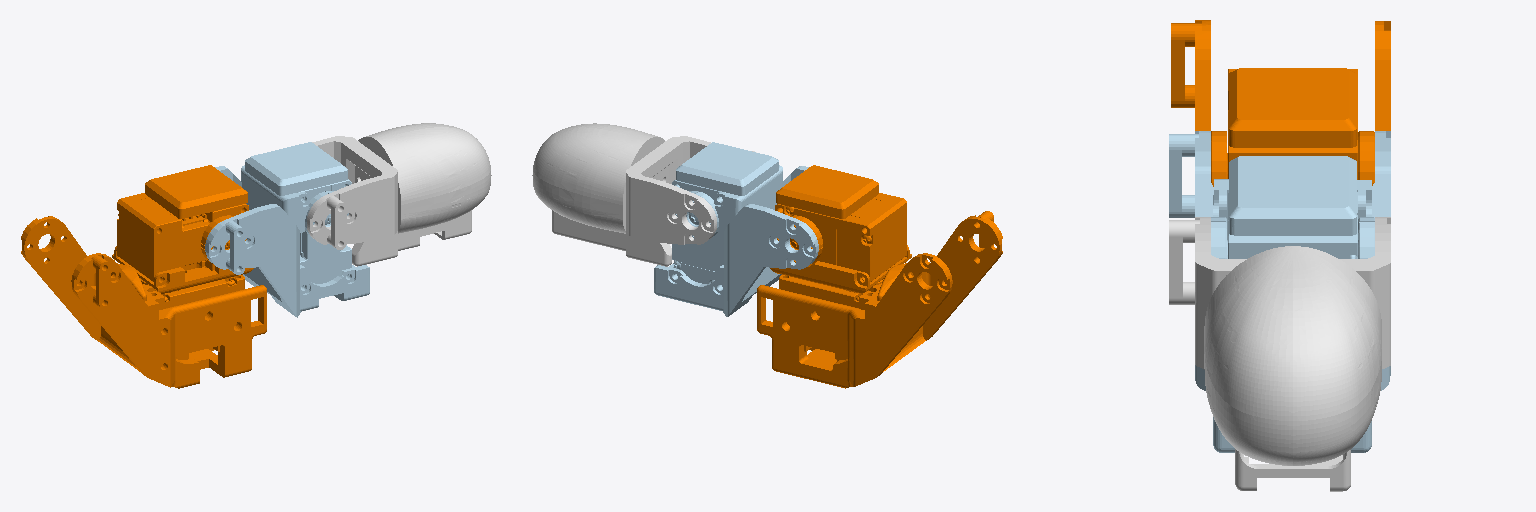
The robot description file, URDF, robot "xela_finger_generated":
<?xml version="1.0" ?>
<robot name="xela_finger_generated">

  <link name="rf_mcp">
    <inertial>
      <origin xyz="0.0342889 -0.0265621 -0.0145004" rpy="0.0 0.0 0.0"/>
      <mass value="0.044"/>
      <inertia ixx="6.90801e-06" ixy="2.26365e-06" ixz="1.79475e-07" iyy="1.04766e-05" iyz="-1.82708e-07" izz="1.10431e-05"/>
    </inertial>
    <visual>
      <origin xyz="0.0048 -0.0 -0.0145" rpy="1.5708 1.5708 0.0"/>
      <geometry>
        <mesh filename="package://assets/p4_unified.stl"/>
      </geometry>
      <material name="p4_unified_material">
        <color rgba="0.972549 0.529412 0.00392157 1.0"/>
      </material>
    </visual>
    <collision>
      <origin xyz="0.0048 -0.0 -0.0145" rpy="1.5708 1.5708 0.0"/>
      <geometry>
        <mesh filename="package://assets/p4_unified.stl"/>
      </geometry>
    </collision>
  </link>

  <link name="rf_pip">
    <inertial>
      <origin xyz="-0.000258994 0.00848001 0.0133488" rpy="0.0 0.0 0.0"/>
      <mass value="0.032"/>
      <inertia ixx="3.54425e-06" ixy="-1.6457e-08" ixz="-1.5221e-08" iyy="2.67248e-06" iyz="-1.71388e-07" izz="3.5384e-06"/>
    </inertial>
    <visual>
      <origin xyz="0.0 0.0075 0.0" rpy="-1.5708 -1.5708 0.0"/>
      <geometry>
        <mesh filename="package://assets/p3_unified.stl"/>
      </geometry>
      <material name="p3_unified_material">
        <color rgba="0.972549 0.529412 0.00392157 1.0"/>
      </material>
    </visual>
    <collision>
      <origin xyz="0.0 0.0075 0.0" rpy="-1.5708 -1.5708 0.0"/>
      <geometry>
        <mesh filename="package://assets/p3_unified.stl"/>
      </geometry>
    </collision>
  </link>

  <link name="rf_dip">
    <inertial>
      <origin xyz="0.0304899 -0.00688132 -0.0146269" rpy="0.0 0.0 0.0"/>
      <mass value="0.037"/>
      <inertia ixx="8.11059e-06" ixy="5.66349e-07" ixz="1.88699e-07" iyy="6.98155e-06" iyz="-9.6344e-08" izz="9.0141e-06"/>
    </inertial>
    <visual>
      <origin xyz="0.00905 -0.0 -0.0145" rpy="1.5708 1.5708 0.0"/>
      <geometry>
        <mesh filename="package://assets/p2_unified.stl"/>
      </geometry>
      <material name="p2_unified_material">
        <color rgba="0.768627 0.886275 0.952941 1.0"/>
      </material>
    </visual>
    <collision>
      <origin xyz="0.00905 -0.0 -0.0145" rpy="1.5708 1.5708 0.0"/>
      <geometry>
        <mesh filename="package://assets/p2_unified.stl"/>
      </geometry>
    </collision>
  </link>

  <link name="rf_fingertip">
    <inertial>
      <origin xyz="-0.00193531 -0.0359351 0.0145854" rpy="0.0 0.0 0.0"/>
      <mass value="0.016"/>
      <inertia ixx="1.0779e-05" ixy="1.57487e-07" ixz="-2.8587e-08" iyy="5.55855e-06" iyz="-1.64744e-07" izz="1.00656e-05"/>
    </inertial>
    <visual>
      <origin xyz="-0.00135925 -0.025 0.0145" rpy="-1.5708 -1.5708 0.0"/>
      <geometry>
        <mesh filename="package://assets/fingertop_unfied.stl"/>
      </geometry>
      <material name="fingertop_unfied_material">
        <color rgba="0.917647 0.917647 0.917647 1.0"/>
      </material>
    </visual>
    <collision>
      <origin xyz="-0.00135925 -0.025 0.0145" rpy="-1.5708 -1.5708 0.0"/>
      <geometry>
        <mesh filename="package://assets/fingertop_unfied.stl"/>
      </geometry>
    </collision>
  </link>

  <joint name="rf_rot" type="revolute">
    <origin xyz="0.0326 -0.0123 -0.0145" rpy="-1.5708 -1.5708 0.0"/>
    <parent link="rf_mcp"/>
    <child link="rf_pip"/>
    <axis xyz="0.0 0.0 1.0"/>
    <limit effort="0.95" velocity="8.48" lower="-0.349" upper="0.349"/>
  </joint>

  <joint name="rf_pip" type="revolute">
    <origin xyz="0.0145 0.015 0.013" rpy="1.5708 0.0 1.5708"/>
    <parent link="rf_pip"/>
    <child link="rf_dip"/>
    <axis xyz="0.0 0.0 1.0"/>
    <limit effort="0.95" velocity="8.48" lower="-0.262" upper="2.0944"/>
  </joint>

  <joint name="rf_dip" type="revolute">
    <origin xyz="0.0361 0.0 -0.0291" rpy="0.0 0.0 1.5708"/>
    <parent link="rf_dip"/>
    <child link="rf_fingertip"/>
    <axis xyz="0.0 0.0 1.0"/>
    <limit effort="0.95" velocity="8.48" lower="-0.0873" upper="2.2689"/>
  </joint>

<link name="base"/>
<joint name="base" type="fixed">
  <origin xyz="0 0 0.2" rpy="1.57 0 0"/>
  <parent link="base"/>
  <child link="rf_mcp"/>
</joint>
</robot>

--- What the picture shows (computed from the rendered views, not written in the file) ---
The picture shows the robot from 3 angles, left to right: view 1: azimuth 30°, elevation 25°; view 2: azimuth 150°, elevation 25°; view 3: azimuth 270°, elevation 25°; orthographic projection.
Robot: xela_finger_generated — 5 links, 4 joints (3 revolute, 1 fixed); root link base; default pose: all joints at 0.
Links seen in each view (by area): view 1: rf_mcp, rf_fingertip, rf_dip, rf_pip; view 2: rf_mcp, rf_fingertip, rf_dip, rf_pip; view 3: rf_fingertip, rf_dip, rf_pip, rf_mcp.
Link boxes in pixels (x1,y1,x2,y2): rf_mcp: (21, 216, 266, 388); rf_fingertip: (307, 123, 491, 266); rf_dip: (205, 142, 369, 317); rf_pip: (112, 165, 253, 293); rf_mcp: (757, 211, 1002, 388); rf_fingertip: (532, 123, 756, 266); rf_dip: (654, 142, 818, 316); rf_pip: (770, 165, 911, 293); rf_fingertip: (1169, 217, 1390, 491); rf_dip: (1169, 131, 1390, 452); rf_pip: (1211, 68, 1374, 186); rf_mcp: (1171, 20, 1390, 130).
Size in the robot's own frame: 0.156 by 0.0393 by 0.0617 metres.
4 mesh visuals loaded from 4 distinct referenced files (4 binary STL).
